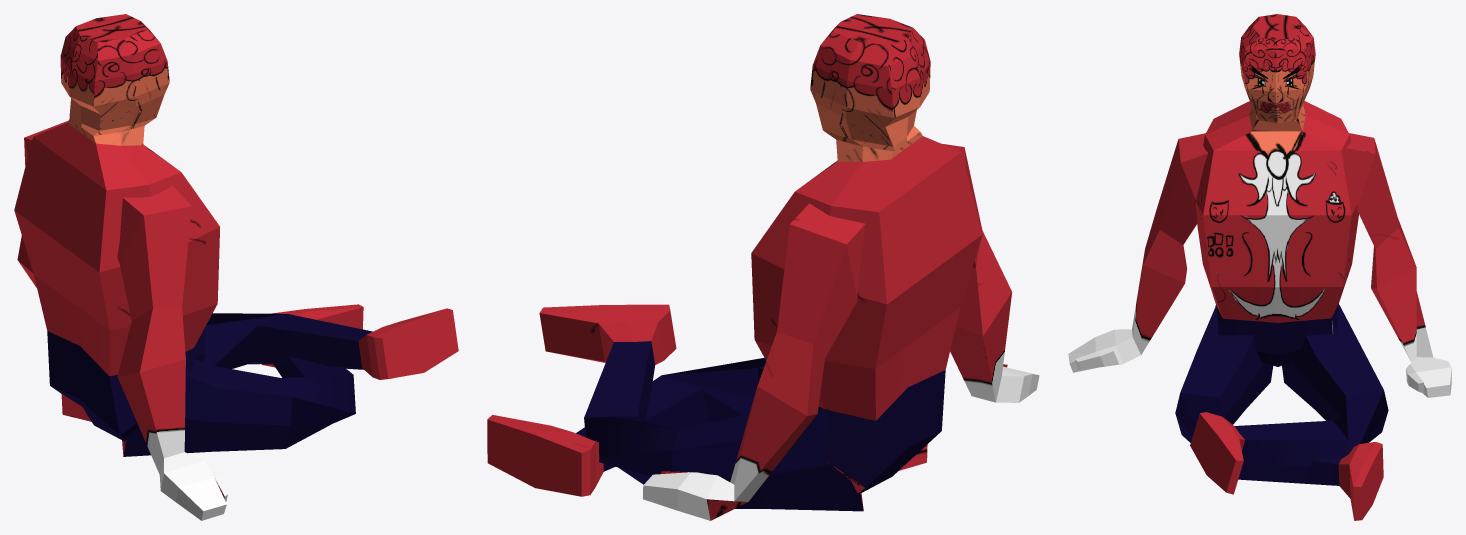
Rendered from AssisEnTailleur.fbx.
The picture shows the model from 3 angles, left to right: view 1: azimuth 30°, elevation 25°; view 2: azimuth 150°, elevation 25°; view 3: azimuth 270°, elevation 25°; orthographic projection. The views are drawn at different scales.
Visible parts, largest first — view 1: Cube.001; view 2: Cube.001; view 3: Cube.001.
Part boxes in pixels (x1,y1,x2,y2): Cube.001: [14, 14, 458, 520]; Cube.001: [487, 14, 1039, 520]; Cube.001: [1068, 14, 1451, 520].
Size of the model in its own units: 220 by 242 by 225.
